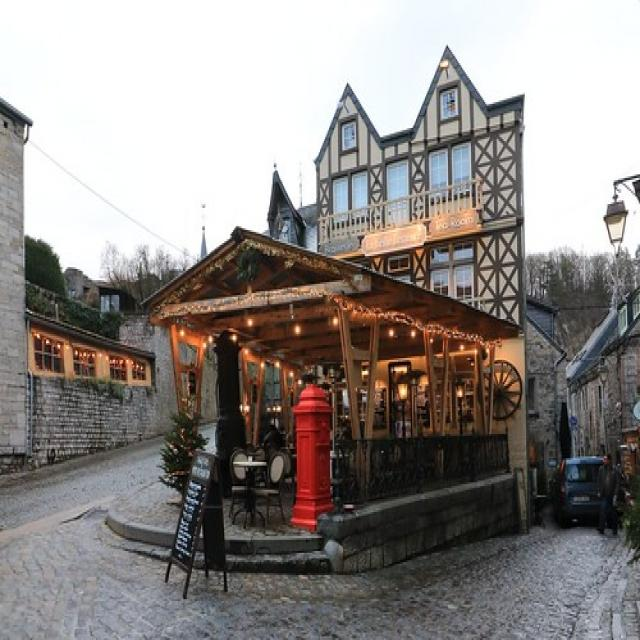Normal_building: (137, 67, 544, 551)
